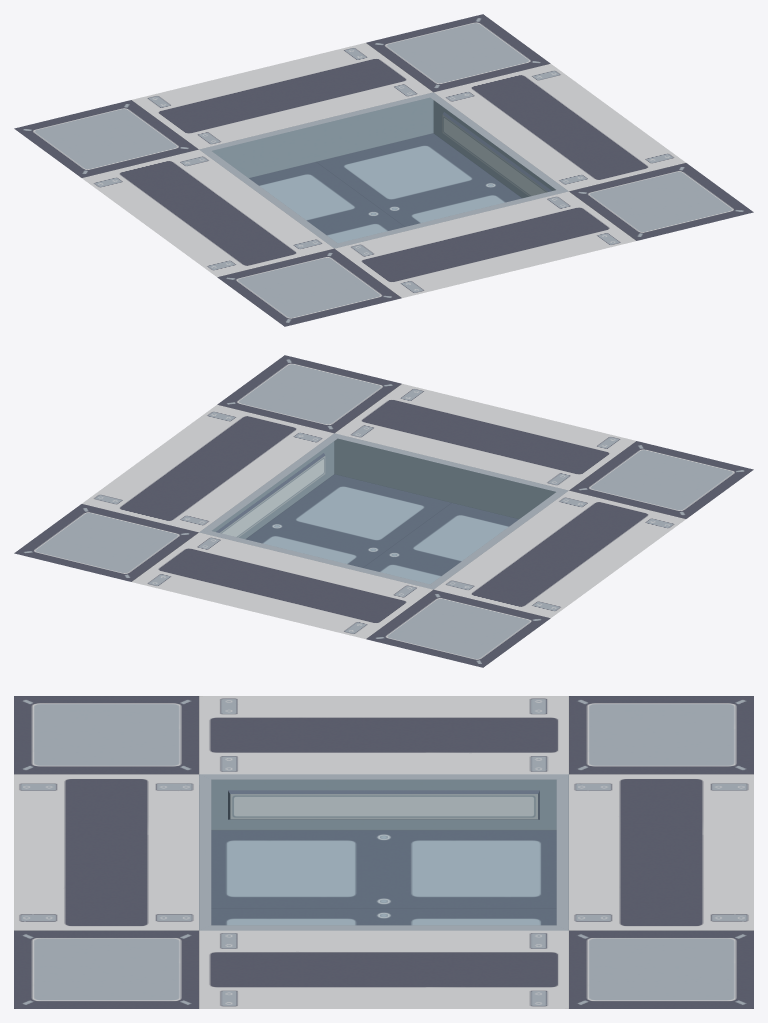
The model's file is Floor_01_B.FBX.
3 renders of one model, top to bottom at view 1: azimuth 30°, elevation 25°; view 2: azimuth 150°, elevation 25°; view 3: azimuth 270°, elevation 25°, orthographic. The views are drawn at different scales.
Visible parts, largest first — view 1: Floor_01_B; view 2: Floor_01_B; view 3: Floor_01_B.
Boxes of the visible parts, x1,y1,x2,y2 form: Floor_01_B: (14,14,753,326); Floor_01_B: (14,355,753,667); Floor_01_B: (14,696,753,1008).
Size of the model in its own units: 6 by 0.5 by 6.
3 materials, 2 textured.
